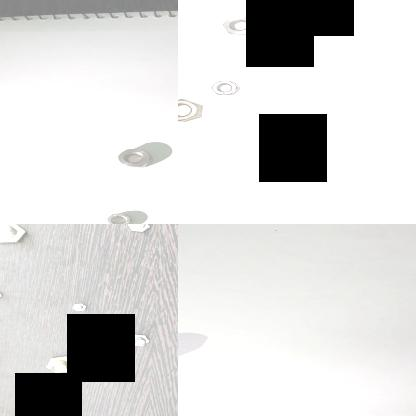Bolts: (40, 352, 78, 376), (0, 224, 30, 246), (121, 332, 150, 348), (121, 224, 156, 234)
NUTS: (220, 12, 263, 38), (112, 148, 152, 168), (178, 97, 203, 125), (209, 77, 239, 96), (102, 212, 133, 224)
